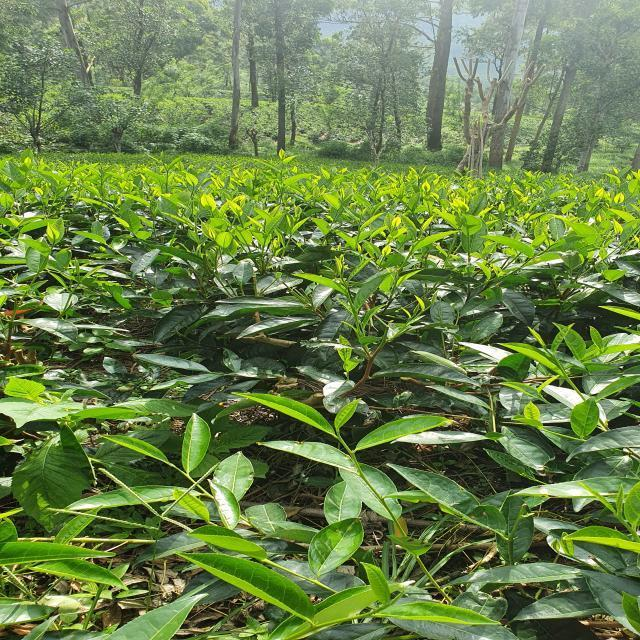Stem: (337, 436, 351, 453), (567, 379, 579, 392)
